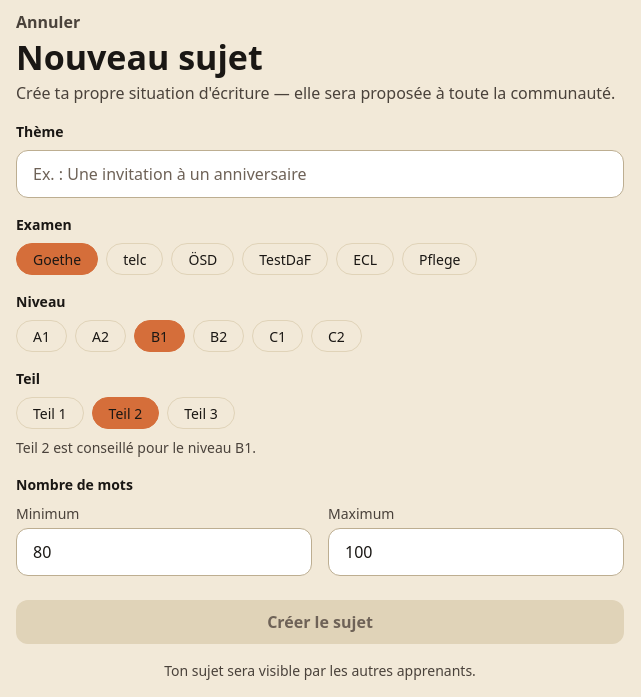
CustomPromptScreen — community prompt authoring (S6 Task 6.7) › picking a board that doesn't ship the current level clamps to the board's first shipped level and re-seeds defaults
The image size is (641, 697).
goethe/b1 → testdaf ships only [b2, c1] — b1 is stranded, clamps to b2.
Click the button with test id "schreiben-custom-prompt-board-testdaf": coordinates (285, 259) [242,243,328,275]
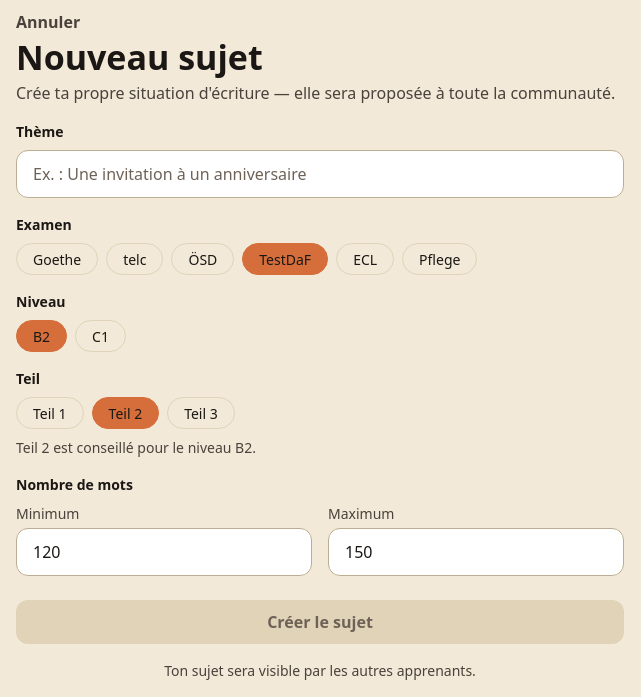
Now the field named "Minimum" holds "120", box [16,528,312,576]
Now the field named "Maximum" holds "150", box [328,528,624,576]
